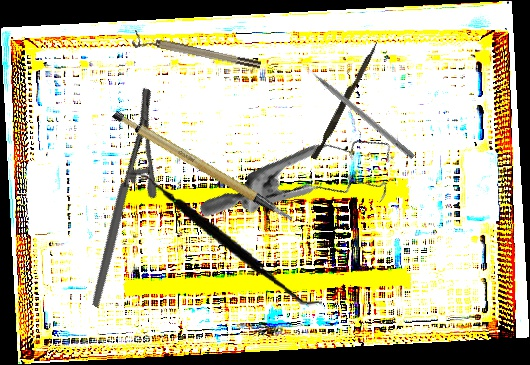Fixation Ring: (131, 30, 262, 76)
Needle Holder: (27, 85, 214, 309)
Pusher: (297, 58, 417, 160), (311, 39, 379, 162)
Scalpel Handle: (110, 88, 294, 248)
Spatula Surgical: (116, 167, 332, 307)
Speculum: (197, 79, 415, 298)
